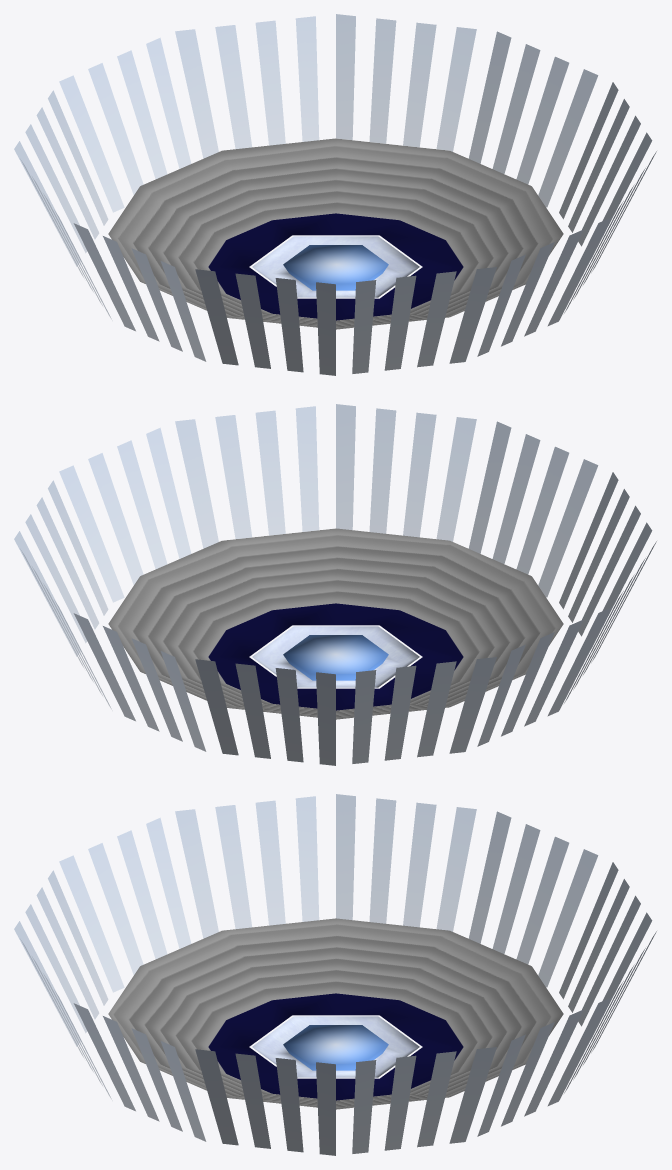
File: ice_arena_a.fbx
3 renders of one model, top to bottom at view 1: azimuth 30°, elevation 25°; view 2: azimuth 150°, elevation 25°; view 3: azimuth 270°, elevation 25°, orthographic.
Parts seen in each view (by area): view 1: IceArena; view 2: IceArena; view 3: IceArena.
Boxes of the visible parts, left/top/right/bottom form: IceArena: left=14, top=14, right=656, bottom=375; IceArena: left=14, top=404, right=656, bottom=765; IceArena: left=14, top=794, right=656, bottom=1155.
Size of the model in its own units: 483 by 104 by 486.
